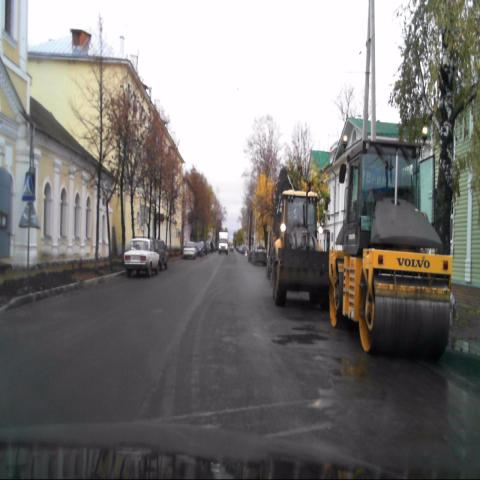5_19_1: (21, 172, 36, 200)
